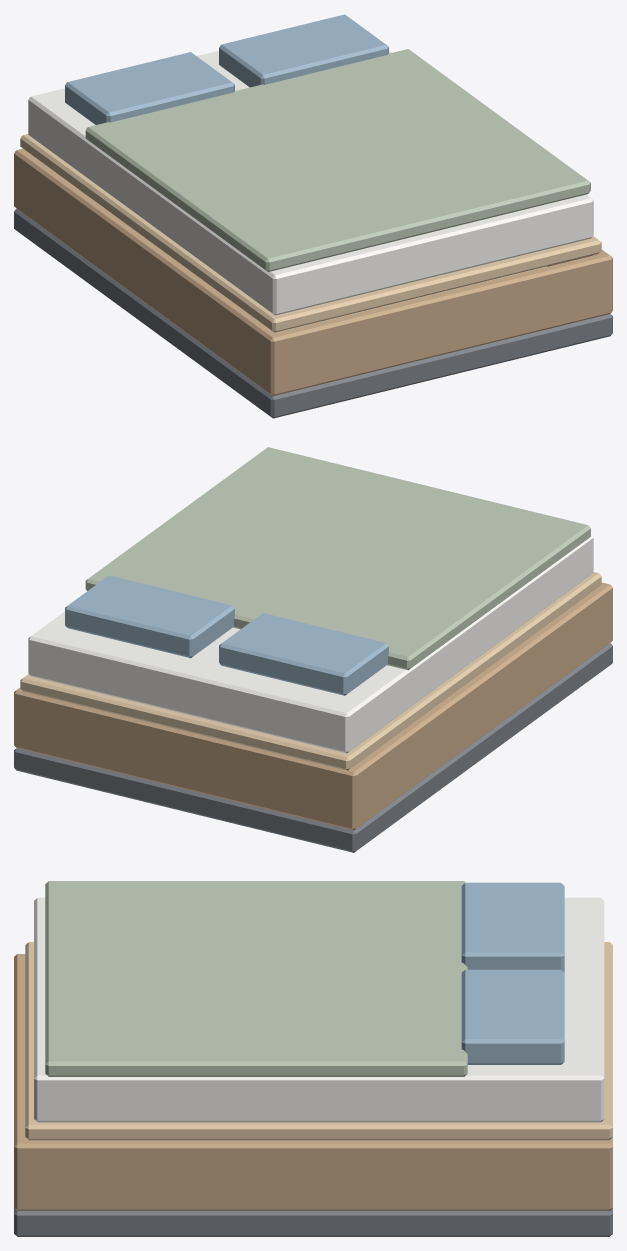
The model's file is OttomanStorageBed.glb.
The picture shows the model from 3 angles, top to bottom: view 1: azimuth 30°, elevation 25°; view 2: azimuth 150°, elevation 25°; view 3: azimuth 270°, elevation 25°; orthographic projection. The views are drawn at different scales.
Visible parts, largest first — view 1: OttomanStorageBed_Deck, OttomanStorageBed_Base; view 2: OttomanStorageBed_Deck, OttomanStorageBed_Base; view 3: OttomanStorageBed_Deck, OttomanStorageBed_Base.
Part boxes in pixels (x1=…): OttomanStorageBed_Deck: x1=20, y1=14, x2=601, y2=332; OttomanStorageBed_Base: x1=14, y1=148, x2=612, y2=418; OttomanStorageBed_Deck: x1=20, y1=447, x2=601, y2=770; OttomanStorageBed_Base: x1=14, y1=582, x2=612, y2=852; OttomanStorageBed_Deck: x1=25, y1=881, x2=612, y2=1140; OttomanStorageBed_Base: x1=14, y1=954, x2=612, y2=1236.
Bounding box in the file's own units: 1.6 × 0.7 × 2.1.
